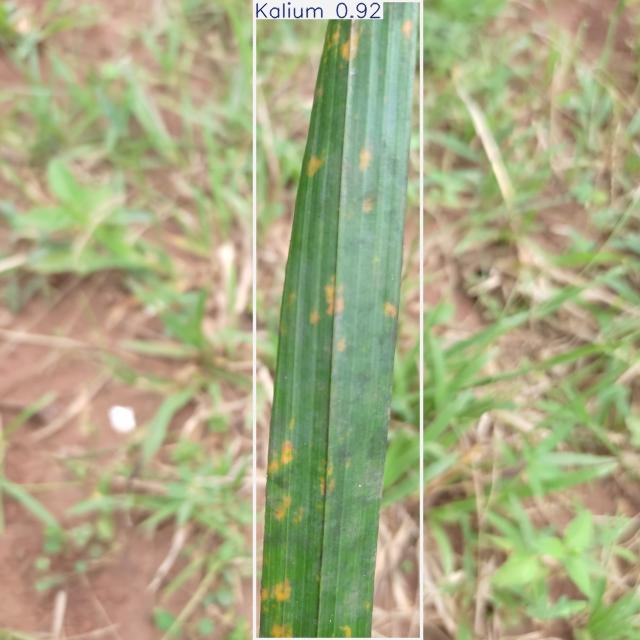Kalium: (254, 0, 421, 640)
